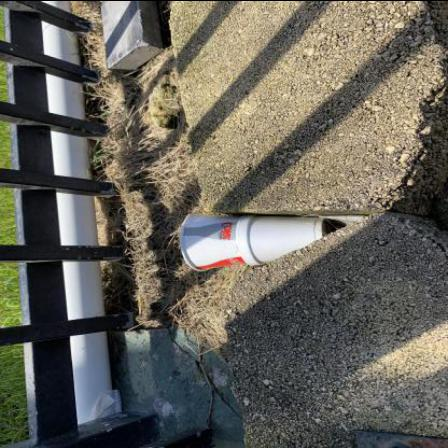Cup: (236, 216, 328, 266), (181, 212, 248, 271)
Plastic bag - wrapper: (320, 215, 367, 224)
Unlabeled litter: (88, 390, 123, 422)
